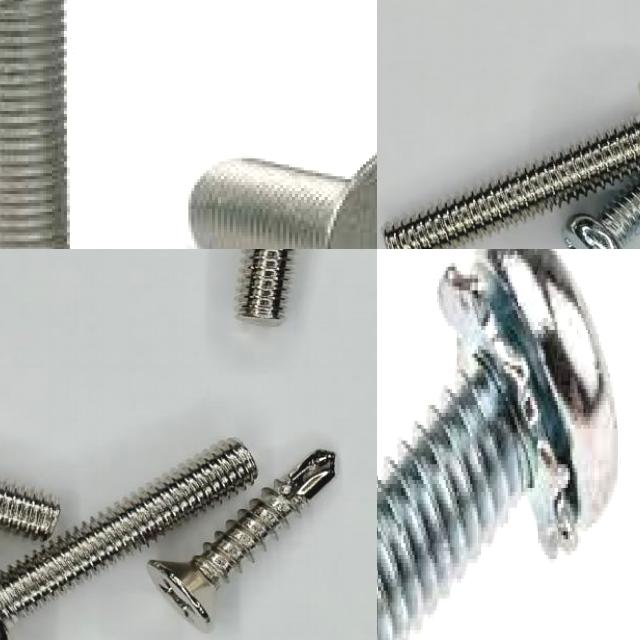Screw: (377, 249, 619, 640), (0, 438, 257, 640), (148, 450, 335, 631), (383, 118, 640, 249), (0, 0, 72, 249), (191, 156, 377, 249), (562, 181, 640, 249), (241, 249, 290, 318), (0, 483, 59, 540)
